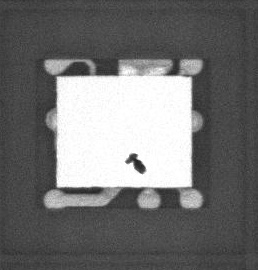DIE_INK: (118, 159, 140, 182)
